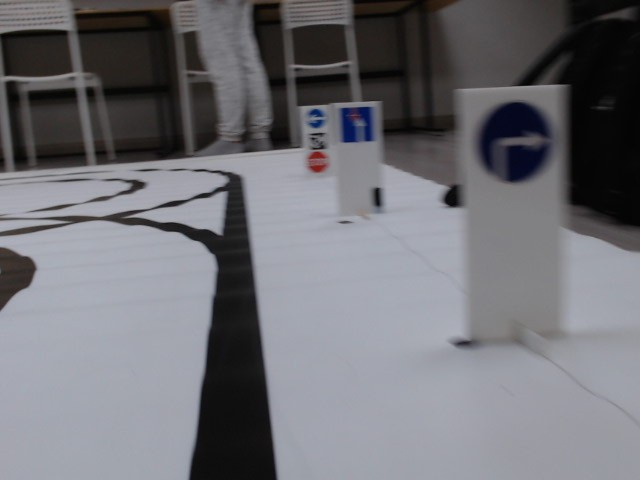Right: (472, 100, 556, 184)
Stop: (307, 151, 331, 173)
priority_movement: (338, 105, 377, 144)
